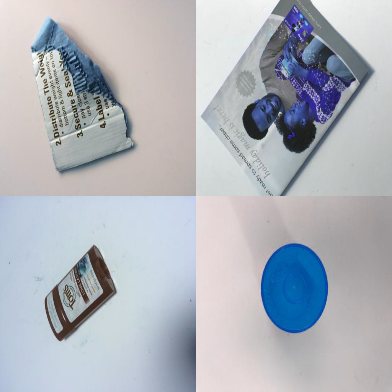cardboard: (31, 16, 136, 172)
paper: (199, 1, 372, 196)
plastic: (261, 244, 329, 334)
trash: (44, 244, 117, 341)
